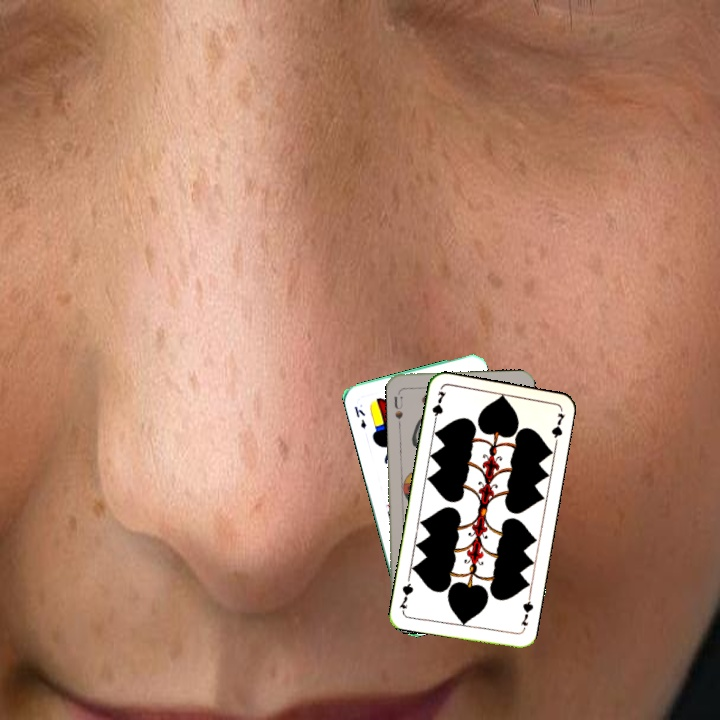EK: (350, 402, 369, 431)
G7: (428, 387, 448, 427), (517, 593, 536, 633)
SU: (390, 392, 405, 421)
